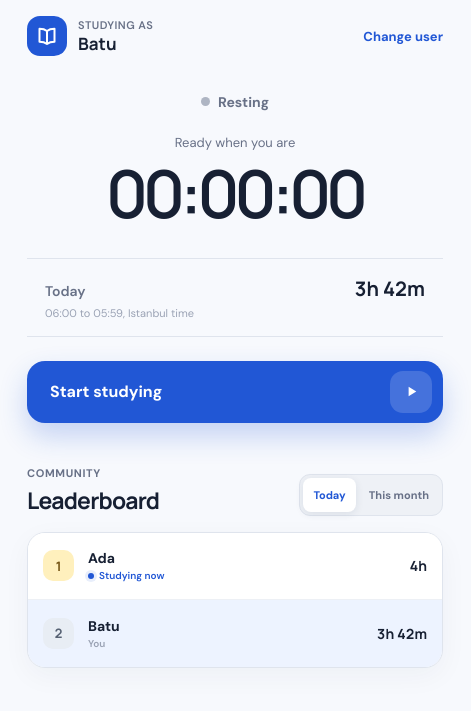
Test: App › restores a remembered profile and can change user
expect the text "Batu" below "Studying as" is shown: met, box x1=78 y1=32 x2=116 y2=54
Click the button "Change user" at (403, 36), box x1=363 y1=18 x2=443 y2=54
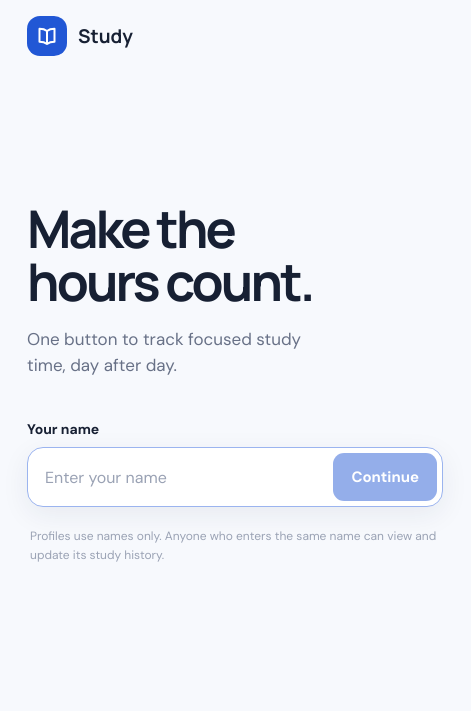
expect the field labelled "Your name" is shown: met, box x1=33 y1=453 x2=333 y2=501
